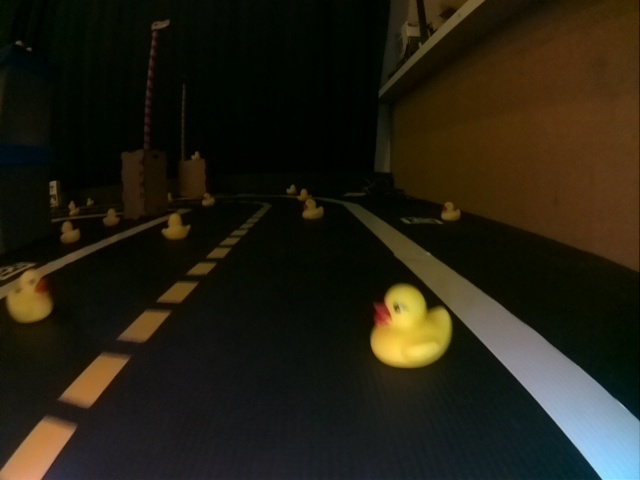Duckie: (372, 288, 448, 364), (7, 271, 51, 321), (164, 214, 192, 239), (441, 202, 460, 221), (60, 223, 78, 243), (303, 201, 323, 219), (102, 209, 116, 226), (202, 192, 213, 206), (298, 190, 307, 200), (191, 152, 201, 159), (287, 184, 294, 194)
QR code: (403, 216, 437, 224)
